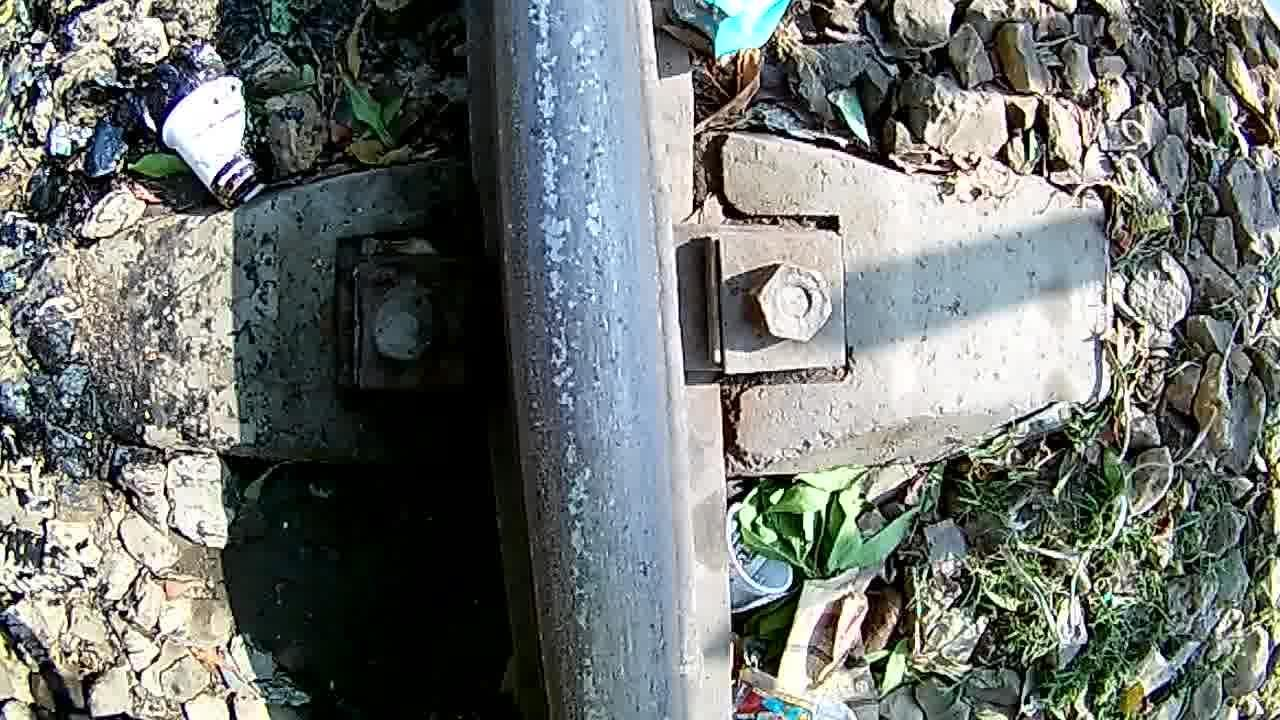crack: (482, 0, 684, 720)
